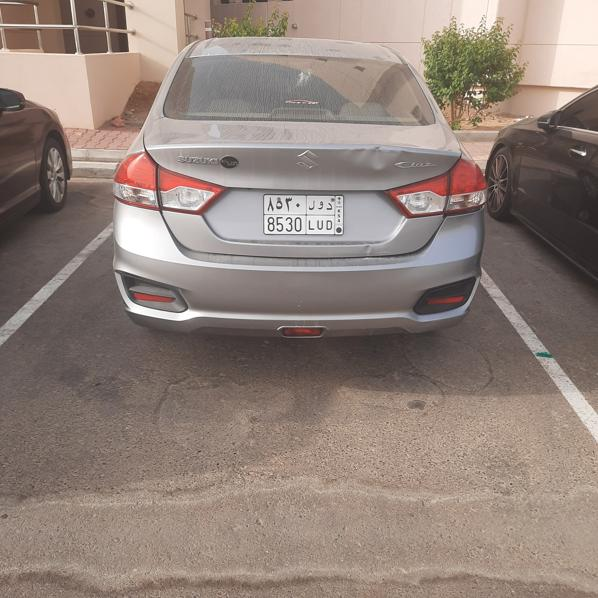numberplate: (264, 195, 344, 234)
